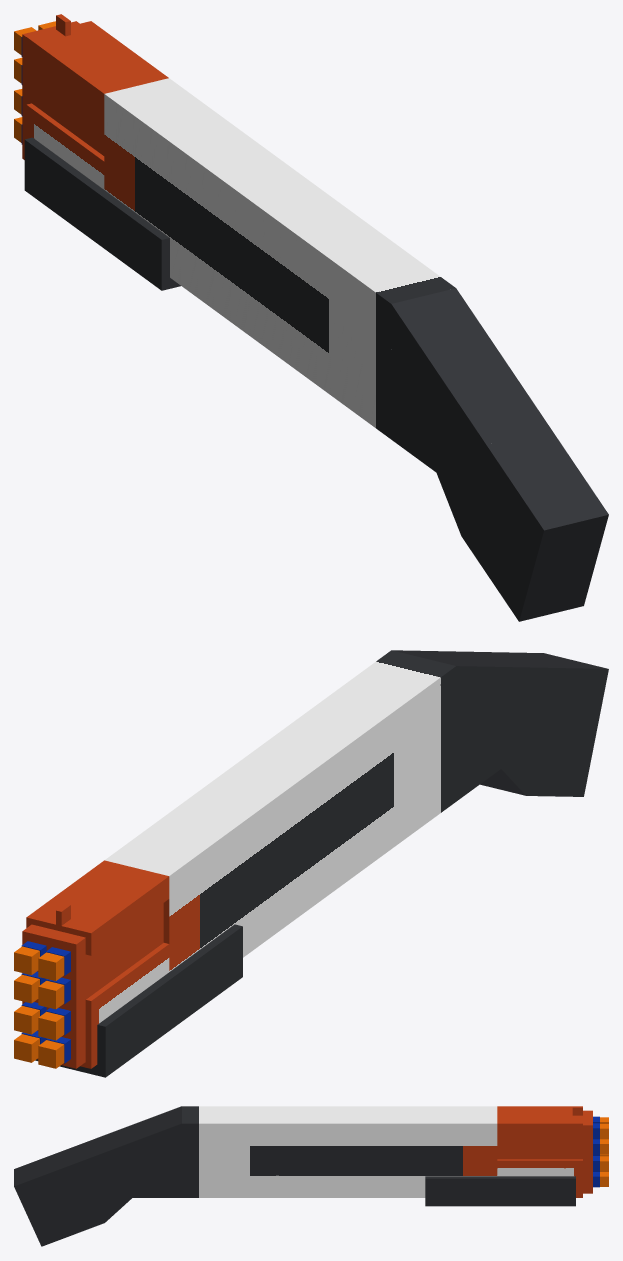
3 renders of one model, top to bottom at view 1: azimuth 30°, elevation 25°; view 2: azimuth 150°, elevation 25°; view 3: azimuth 270°, elevation 25°, orthographic. The views are drawn at different scales.
Parts seen in each view (by area): view 1: cube.032; view 2: cube.032; view 3: cube.032.
Part boxes in pixels (x1,y1,x2,y2): cube.032: (14,14,608,621); cube.032: (14,650,608,1077); cube.032: (14,1106,608,1246).
Bounding box in the file's own units: 0.075 × 0.2109 × 0.868.
2 materials, 2 textured.
